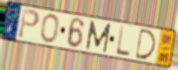6: (66, 17, 86, 50)
D: (134, 27, 157, 61)
L: (115, 25, 132, 59)
M: (85, 19, 112, 54)
O: (39, 13, 60, 45)
P: (17, 8, 41, 41)
